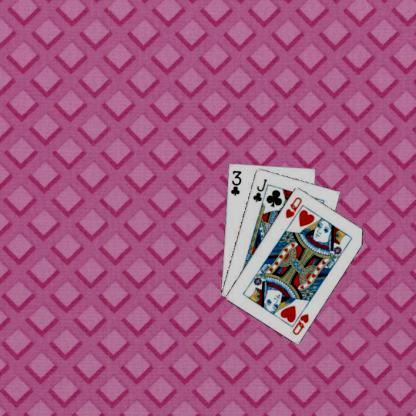3C: (228, 168, 242, 196)
JC: (250, 176, 268, 202)
QH: (288, 305, 310, 336), (283, 194, 303, 219)
